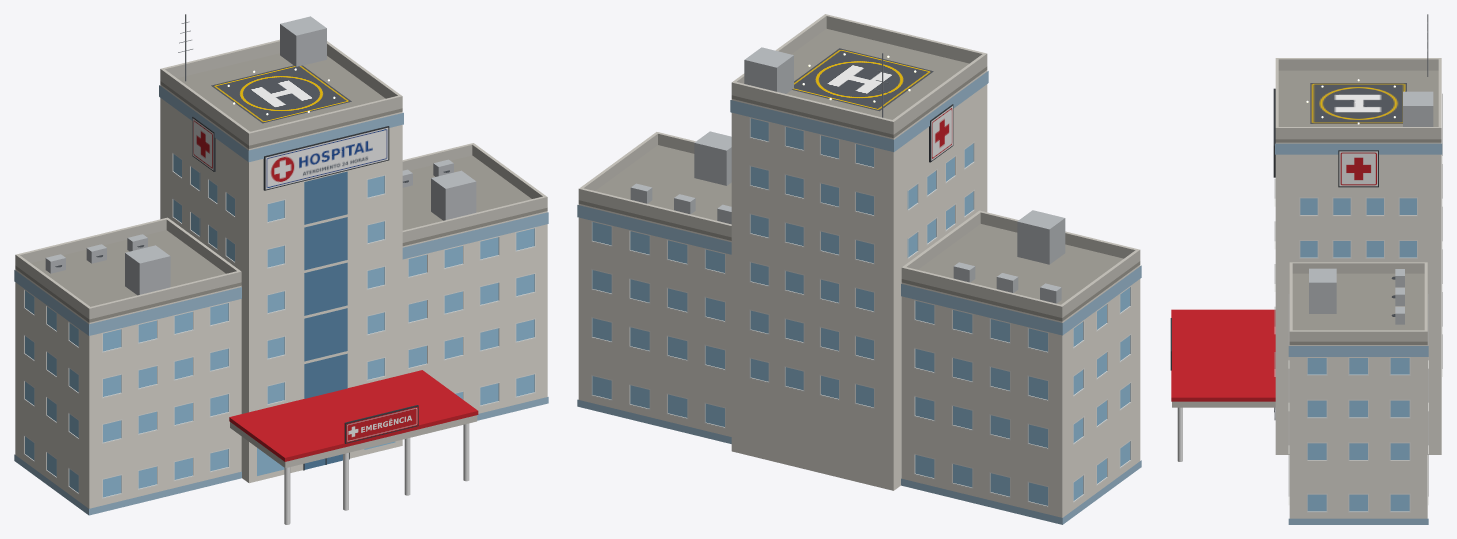
Rendered from hospital.glb.
3 views of the same model, side by side, from view 1: azimuth 30°, elevation 25°; view 2: azimuth 150°, elevation 25°; view 3: azimuth 270°, elevation 25° (orthographic). The views are drawn at different scales.
Visible parts, largest first — view 1: Paredes, Detalhes, Telhado, Vidro, VidroLuz, Letreiro, Molduras; view 2: Paredes, Telhado, Detalhes, Vidro, VidroLuz, Molduras, Letreiro; view 3: Paredes, Telhado, Detalhes, Letreiro, VidroLuz, Molduras, Vidro.
Part boxes in pixels (box(x1,y1,x2,y2)): Paredes: box(15, 84, 547, 508); Detalhes: box(14, 14, 548, 524); Telhado: box(15, 39, 547, 322); Vidro: box(47, 171, 534, 492); VidroLuz: box(25, 154, 534, 497); Letreiro: box(192, 65, 417, 442); Molduras: box(23, 152, 535, 498); Paredes: box(578, 70, 1140, 517); Telhado: box(578, 14, 1140, 321); Detalhes: box(577, 47, 1141, 524); Vidro: box(592, 127, 1130, 505); VidroLuz: box(592, 118, 1130, 500); Molduras: box(591, 117, 1131, 507); Letreiro: box(792, 48, 952, 160); Paredes: box(1275, 142, 1441, 518); Telhado: box(1275, 58, 1441, 344); Detalhes: box(1170, 14, 1442, 524); Letreiro: box(1310, 83, 1406, 186); VidroLuz: box(1300, 198, 1416, 511); Molduras: box(1274, 93, 1442, 512); Vidro: box(1300, 198, 1416, 511).
Bounding box in the file's own units: 35.94 × 30.25 × 19.69.
Materials: 21 (5 with a texture image).
